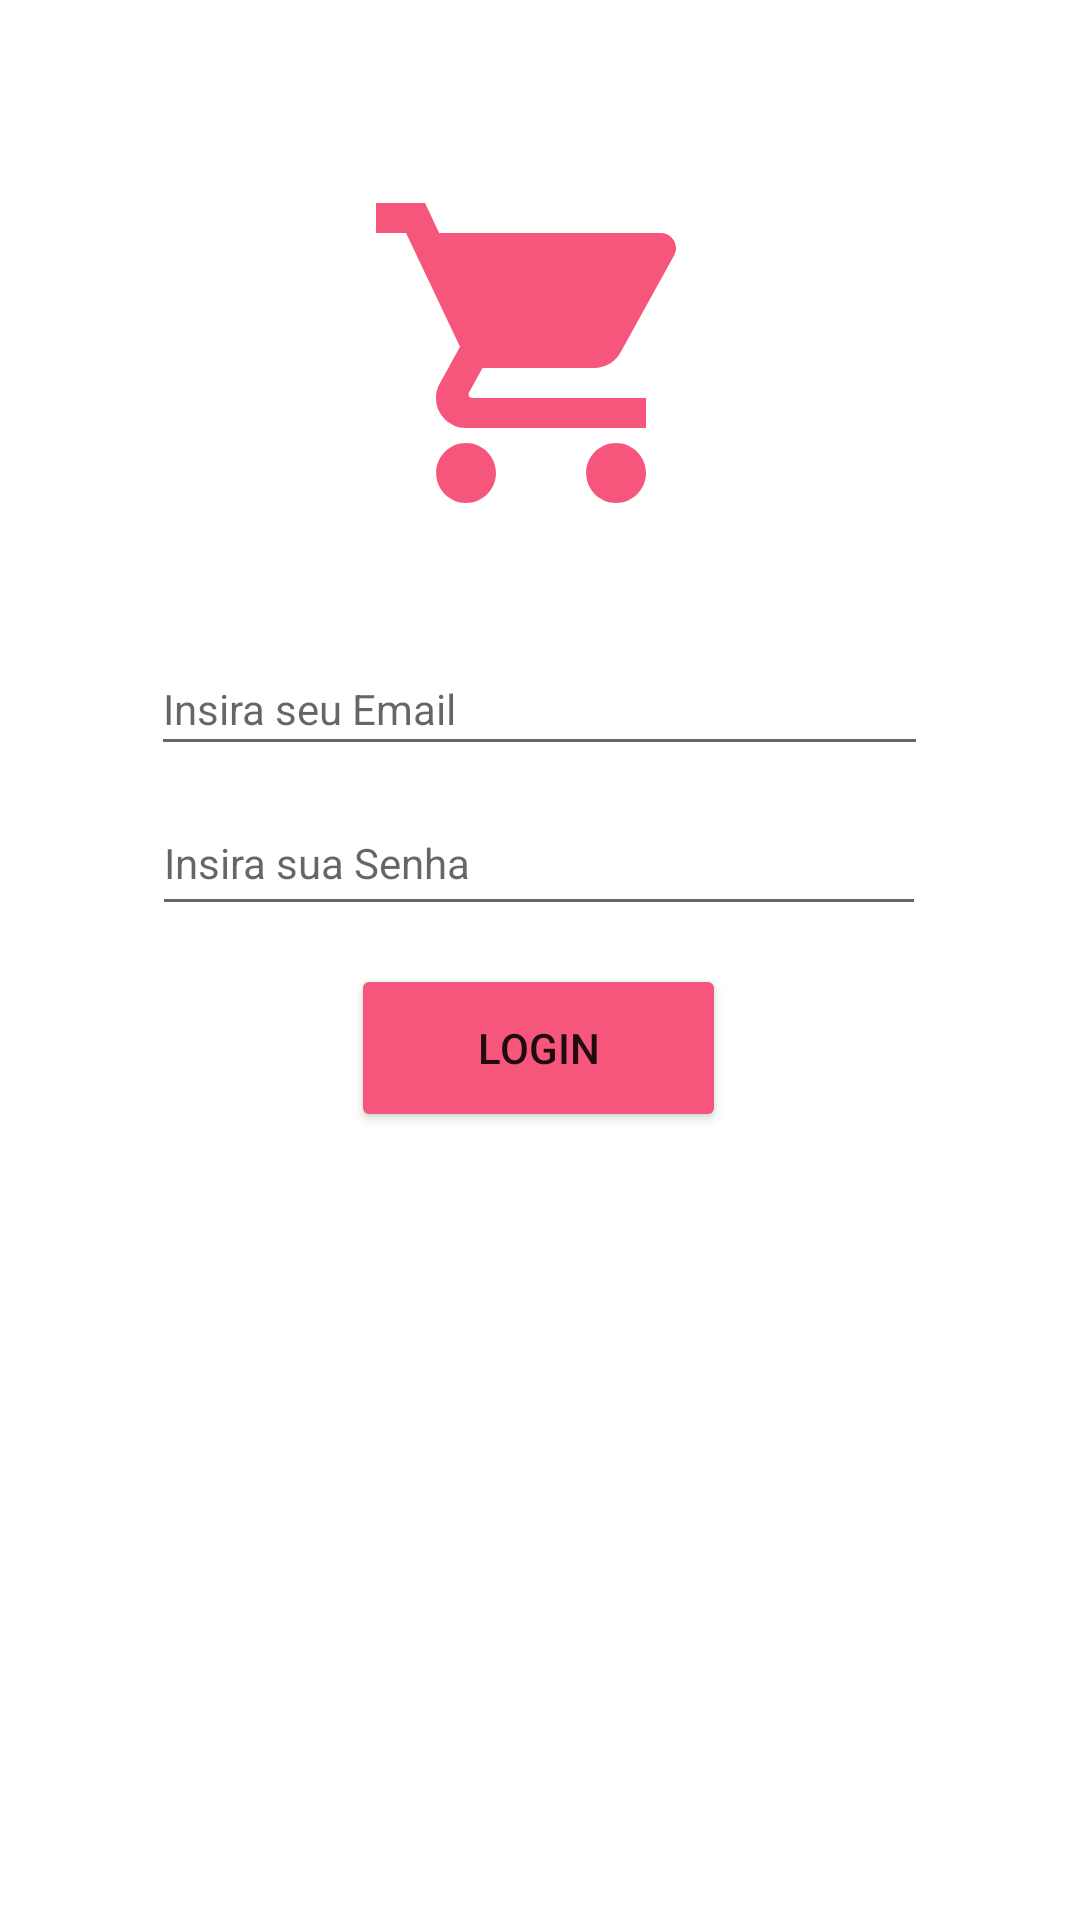

Where to tap for icons on this 1080×1920 app screen, as (x,y):
shopping cart: (526,353)
